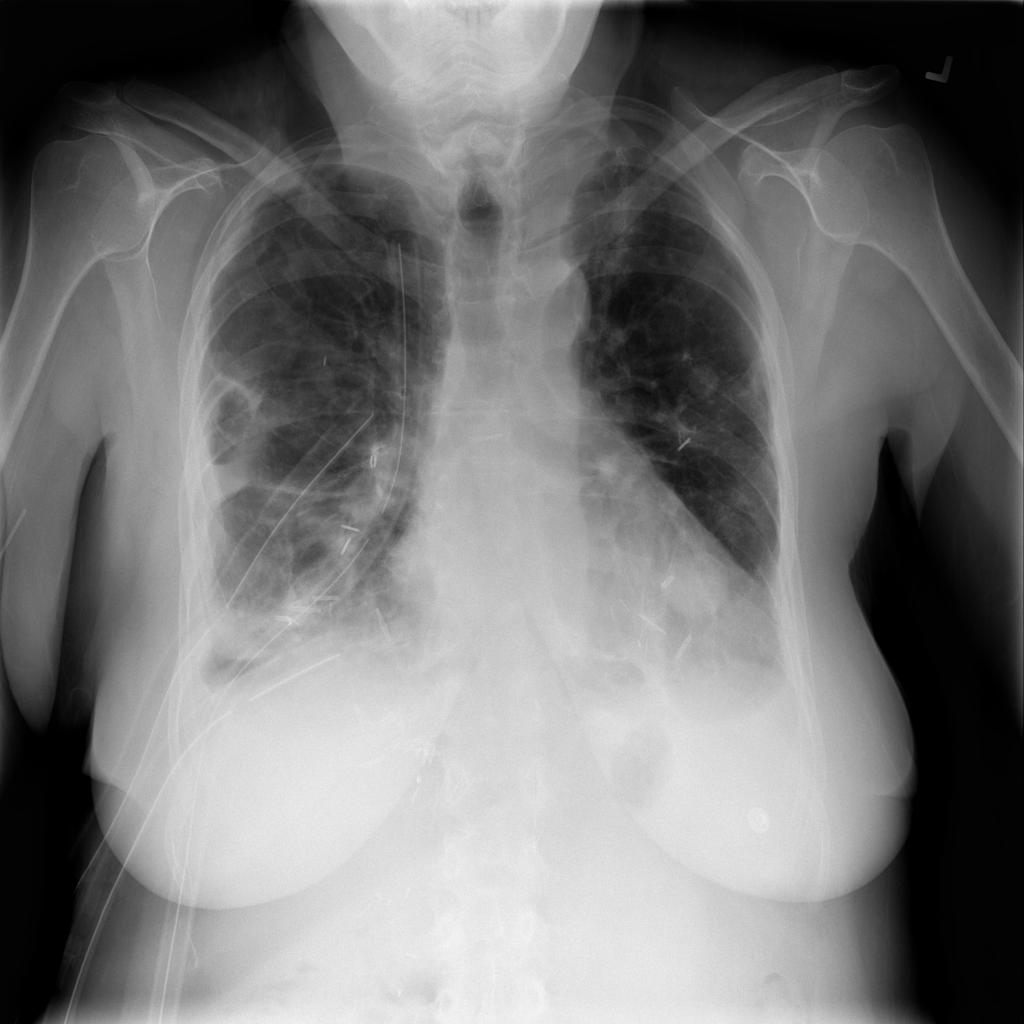nodule: (654, 544, 732, 630), (672, 342, 736, 419)
